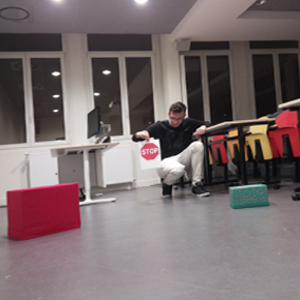stop: (140, 142, 159, 161)
